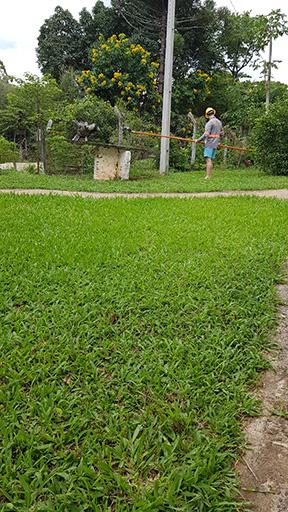Vara_Manobra: (133, 129, 254, 151)
